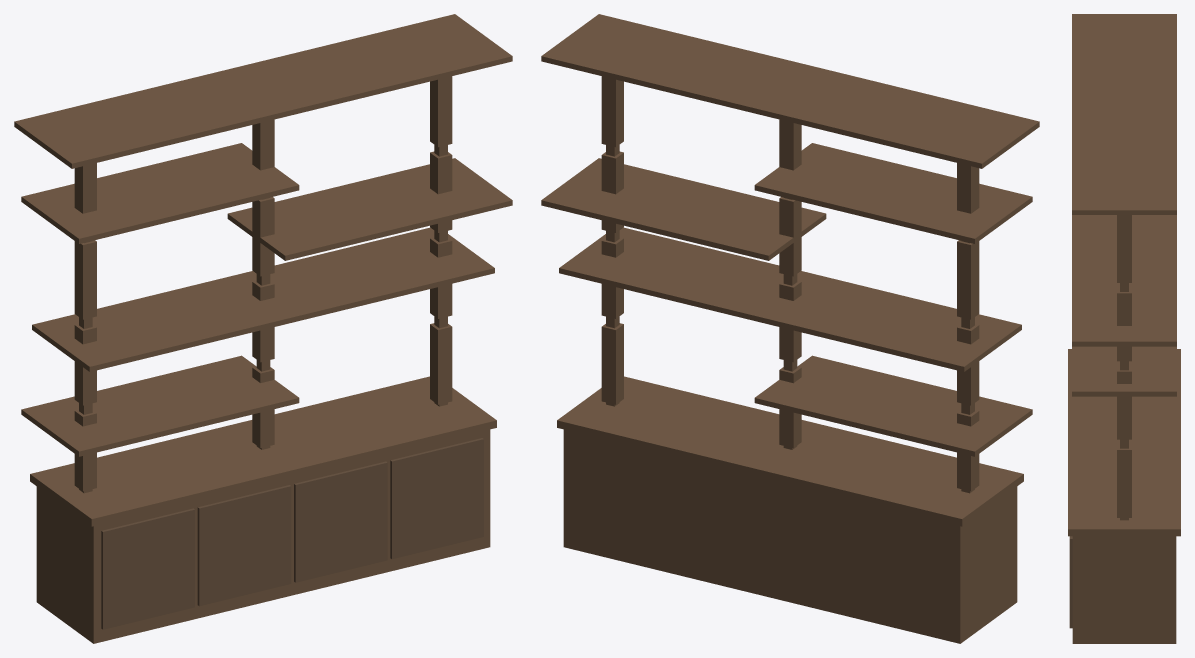
Rendered from walnut_etagere.glb.
3 renders of one model, left to right at view 1: azimuth 30°, elevation 25°; view 2: azimuth 150°, elevation 25°; view 3: azimuth 270°, elevation 25°, orthographic. The views are drawn at different scales.
Parts seen in each view (by area): view 1: Cube.024, Cube.001, Cube.027, Cube, Cube.028, Cube.025, Cube.026, Cube.003, Cube.004, Cube.002, Cube.005, Cube.019 (+11 smaller); view 2: Cube, Cube.024, Cube.001, Cube.027, Cube.028, Cube.025, Cube.026, Cube.019, Cube.009, Cube.015, Cube.022, Cube.008 (+7 smaller); view 3: Cube.024, Cube.001, Cube, Cube.026, Cube.027, Cube.019, Cube.022, Cube.020, Cube.021, Cube.005, Cube.018.
Part boxes in pixels (<box>): Cube.024: <box>14,14,512,168</box>; Cube.001: <box>30,376,496,526</box>; Cube.027: <box>32,227,494,371</box>; Cube: <box>36,429,490,643</box>; Cube.028: <box>21,355,299,456</box>; Cube.025: <box>21,143,299,243</box>; Cube.026: <box>227,158,512,260</box>; Cube.003: <box>197,485,291,606</box>; Cube.004: <box>294,461,387,582</box>; Cube.002: <box>101,508,194,629</box>; Cube.005: <box>390,438,483,559</box>; Cube.019: <box>430,323,452,404</box>; Cube: <box>563,429,1017,643</box>; Cube.024: <box>541,14,1039,168</box>; Cube.001: <box>557,376,1023,526</box>; Cube.027: <box>559,227,1021,371</box>; Cube.028: <box>754,355,1032,456</box>; Cube.025: <box>754,143,1032,243</box>; Cube.026: <box>541,158,826,260</box>; Cube.019: <box>601,323,623,404</box>; Cube.009: <box>957,240,979,319</box>; Cube.015: <box>779,197,801,276</box>; Cube.022: <box>601,76,623,147</box>; Cube.008: <box>957,324,979,405</box>; Cube.024: <box>1072,14,1176,214</box>; Cube.001: <box>1068,349,1180,536</box>; Cube: <box>1072,536,1176,643</box>; Cube.026: <box>1072,240,1176,346</box>; Cube.027: <box>1072,215,1176,396</box>; Cube.019: <box>1117,443,1131,517</box>; Cube.022: <box>1117,215,1131,282</box>; Cube.020: <box>1117,365,1131,439</box>; Cube.021: <box>1117,287,1131,361</box>; Cube.005: <box>1069,536,1072,628</box>; Cube.018: <box>1120,189,1128,520</box>.
Bounding box in the file's own units: 1.88 × 1.98 × 0.4572.
